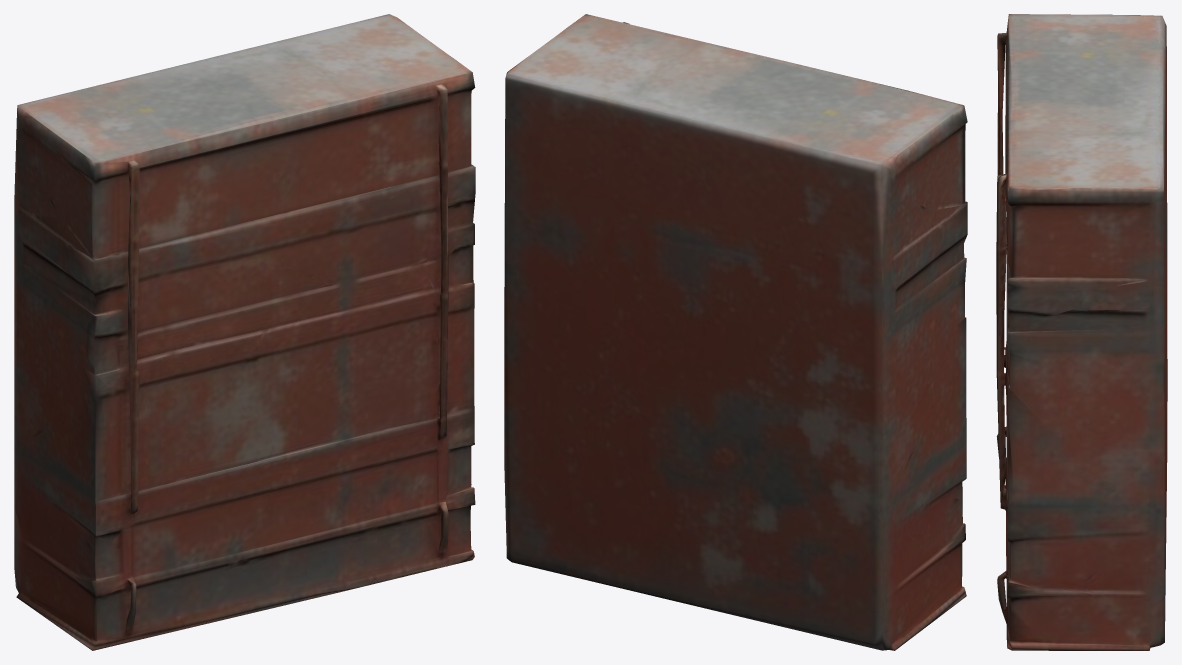
File: locker.glb
3 views of the same model, side by side, from view 1: azimuth 30°, elevation 25°; view 2: azimuth 150°, elevation 25°; view 3: azimuth 270°, elevation 25° (orthographic). The views are drawn at different scales.
Parts seen in each view (by area): view 1: locker; view 2: locker; view 3: locker.
Part boxes in pixels (x1,y1,x2,y2): locker: [14, 14, 475, 650]; locker: [504, 14, 967, 650]; locker: [996, 14, 1167, 650].
Bounding box in the file's own units: 0.8206 × 0.9941 × 0.3324.
Materials: 1 (1 with a texture image).
